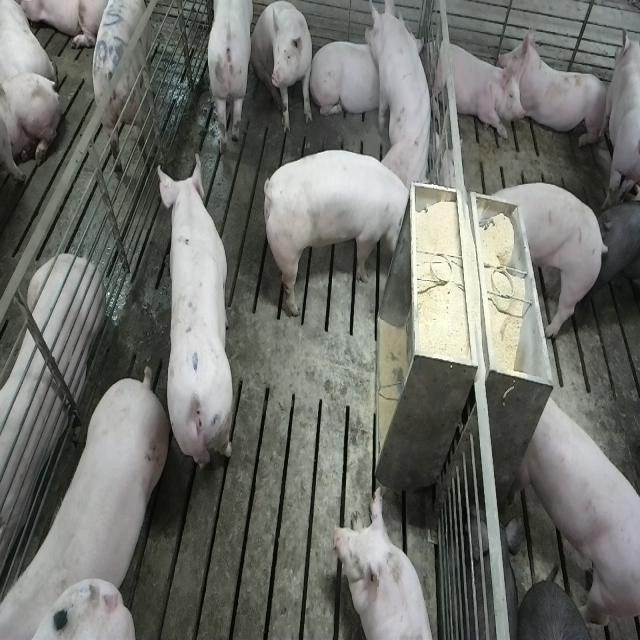Feeding: (267, 144, 417, 326)
Sitting: (366, 0, 436, 183), (252, 0, 314, 134)
Standing: (518, 392, 638, 630), (158, 151, 234, 479), (499, 176, 608, 334), (89, 1, 157, 178), (204, 2, 254, 152), (606, 22, 640, 205), (594, 196, 640, 322)
Sternal_lying: (0, 248, 102, 578), (334, 481, 438, 640), (502, 19, 610, 146), (426, 31, 522, 141), (312, 34, 384, 120)
